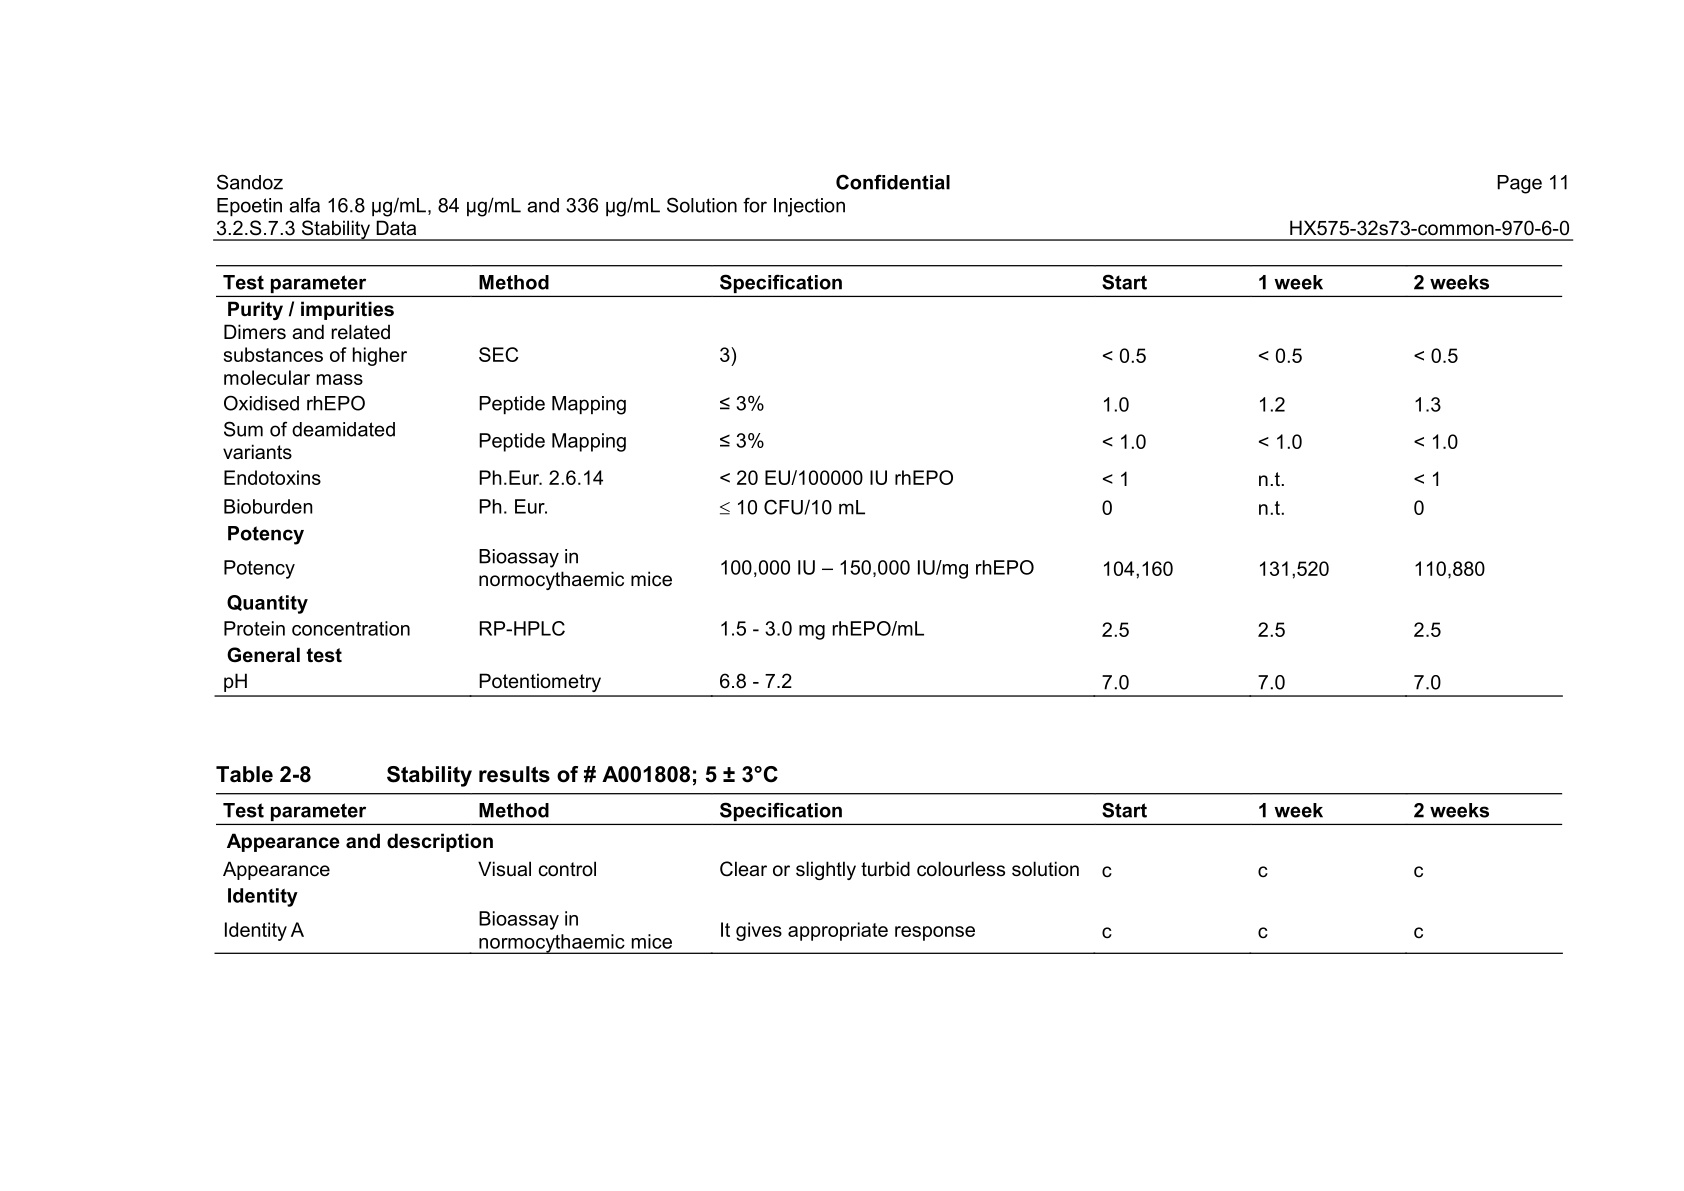partial_lined: (216, 264, 1564, 701), (213, 791, 1564, 955)
